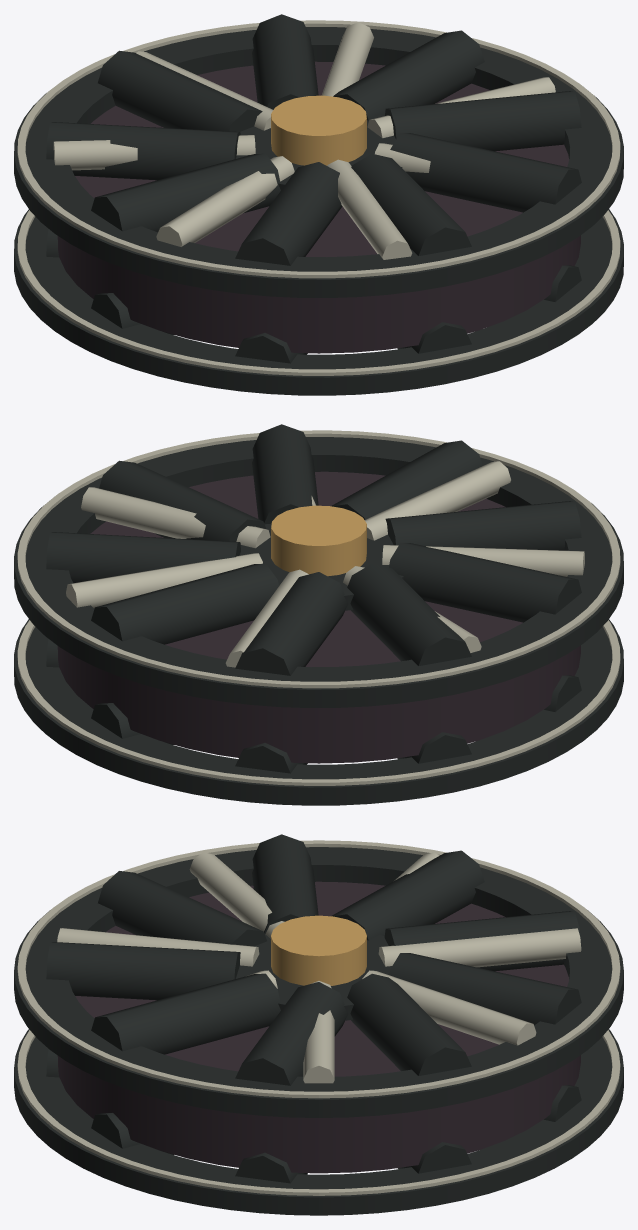
The model's file is Studio.glb.
3 views of the same model, one above another, from view 1: azimuth 30°, elevation 25°; view 2: azimuth 150°, elevation 25°; view 3: azimuth 270°, elevation 25° (orthographic).
Parts seen in each view (by area): view 1: Pressed web (×13), Stamped outer rim (×2), Wound silk, Pressed lip (×2), Raised spoke (×7), Spindle, Spool hub; view 2: Pressed web (×13), Stamped outer rim (×2), Wound silk, Raised spoke (×6), Pressed lip (×2), Spindle, Spool hub; view 3: Pressed web (×13), Stamped outer rim (×2), Wound silk, Pressed lip (×2), Raised spoke (×5), Spindle, Spool hub.
Part boxes in pixels (bbox=[...]): Pressed web (×13): bbox=[46, 14, 581, 363]; Stamped outer rim (×2): bbox=[14, 27, 623, 395]; Wound silk: bbox=[57, 61, 580, 353]; Pressed lip (×2): bbox=[17, 20, 620, 375]; Raised spoke (×7): bbox=[53, 22, 555, 259]; Spindle: bbox=[271, 95, 366, 165]; Spool hub: bbox=[236, 114, 402, 189]; Pressed web (×13): bbox=[46, 424, 581, 773]; Stamped outer rim (×2): bbox=[14, 437, 623, 805]; Wound silk: bbox=[57, 471, 580, 763]; Raised spoke (×6): bbox=[66, 461, 584, 667]; Pressed lip (×2): bbox=[17, 430, 620, 785]; Spindle: bbox=[271, 505, 366, 576]; Spool hub: bbox=[240, 524, 403, 610]; Pressed web (×13): bbox=[46, 834, 581, 1183]; Stamped outer rim (×2): bbox=[14, 847, 623, 1215]; Wound silk: bbox=[57, 881, 580, 1173]; Pressed lip (×2): bbox=[17, 840, 620, 1195]; Raised spoke (×5): bbox=[57, 852, 581, 1083]; Spindle: bbox=[271, 915, 366, 985]; Spool hub: bbox=[236, 934, 391, 1020].
Size of the model in its own units: 0.85 by 0.253 by 0.85.
